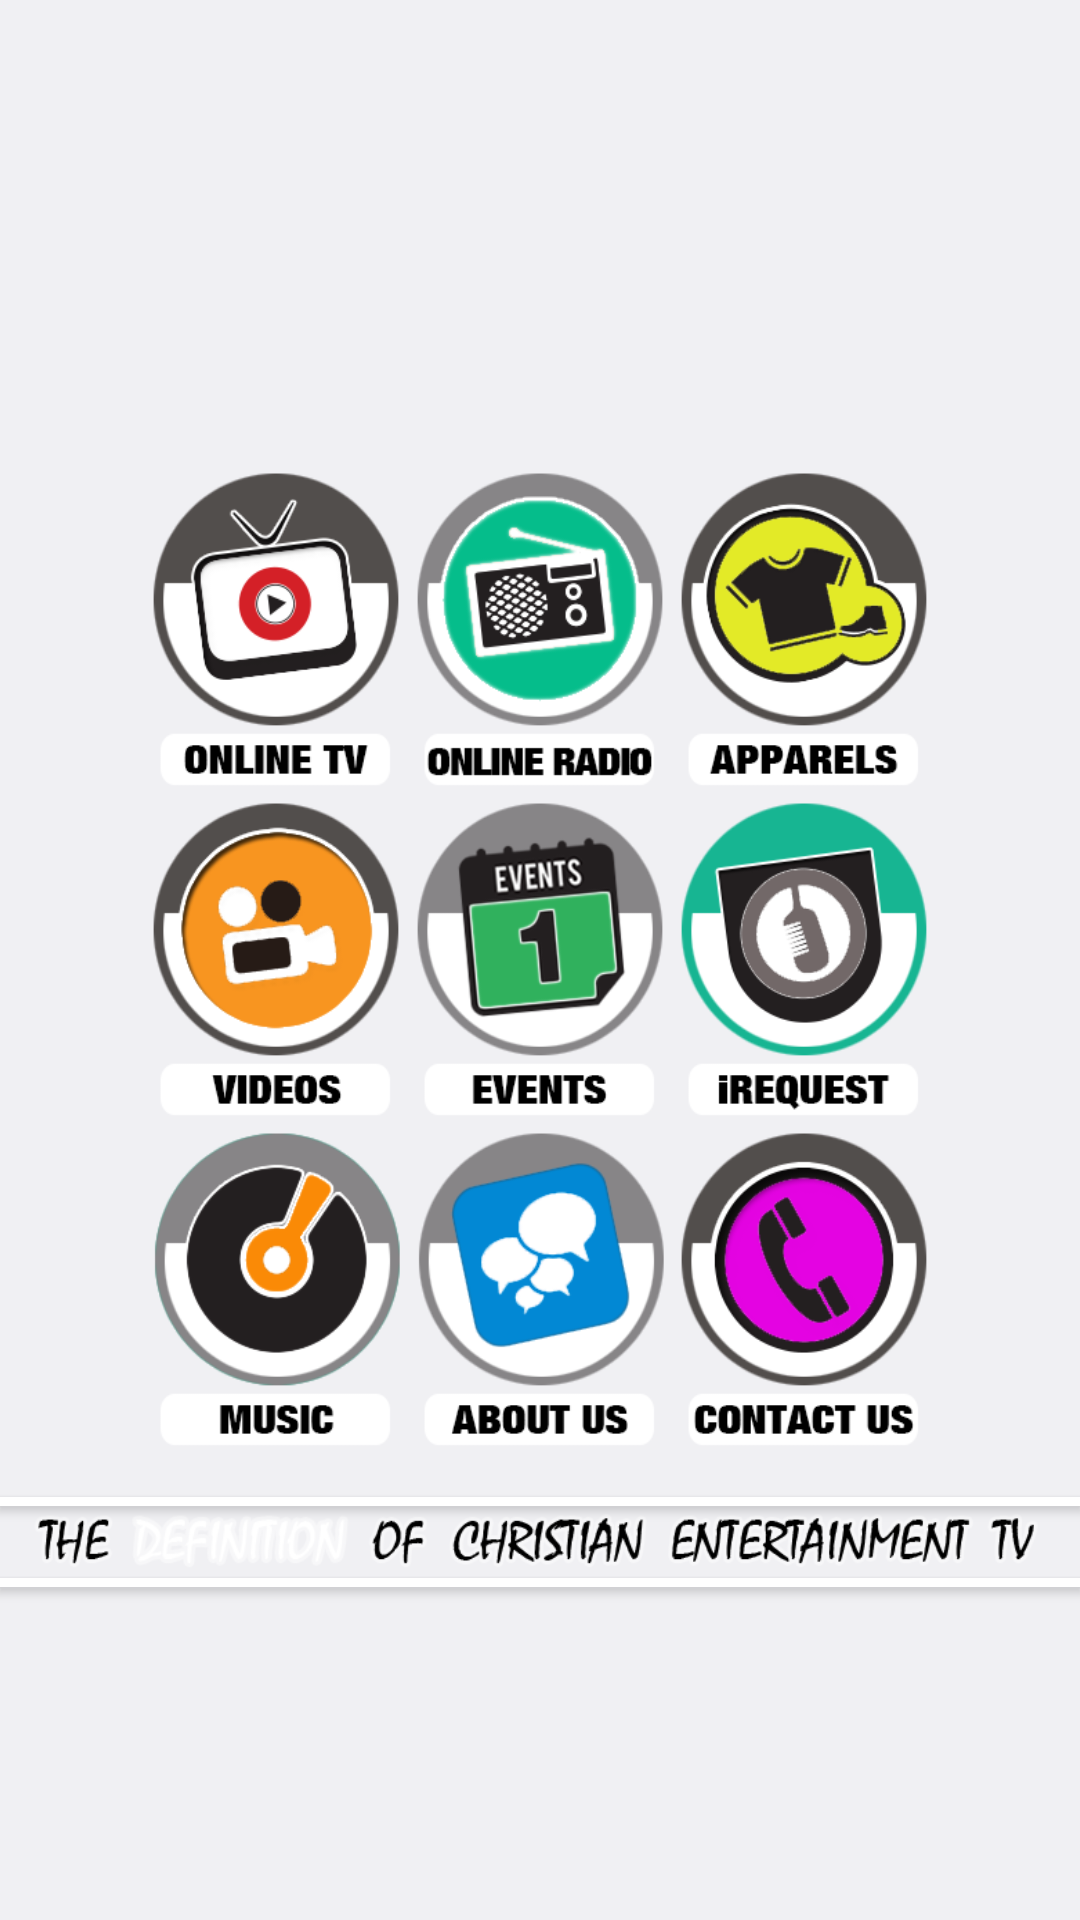

Point at icon controls on the screen. Image size 1080px x 1920px, points as (x,y).
live: (276,629)
store: (804,623)
